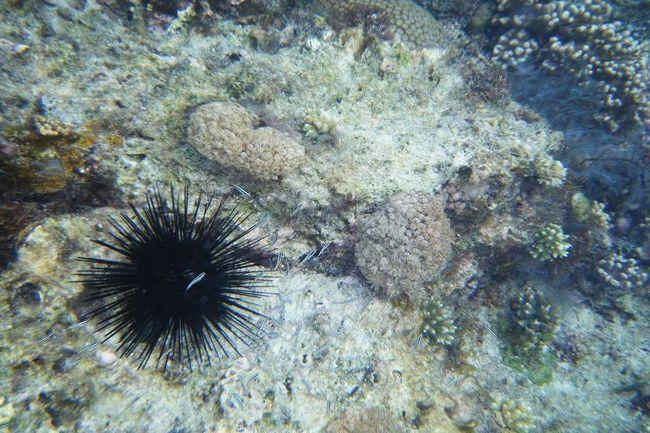urchin: (83, 187, 276, 355)
